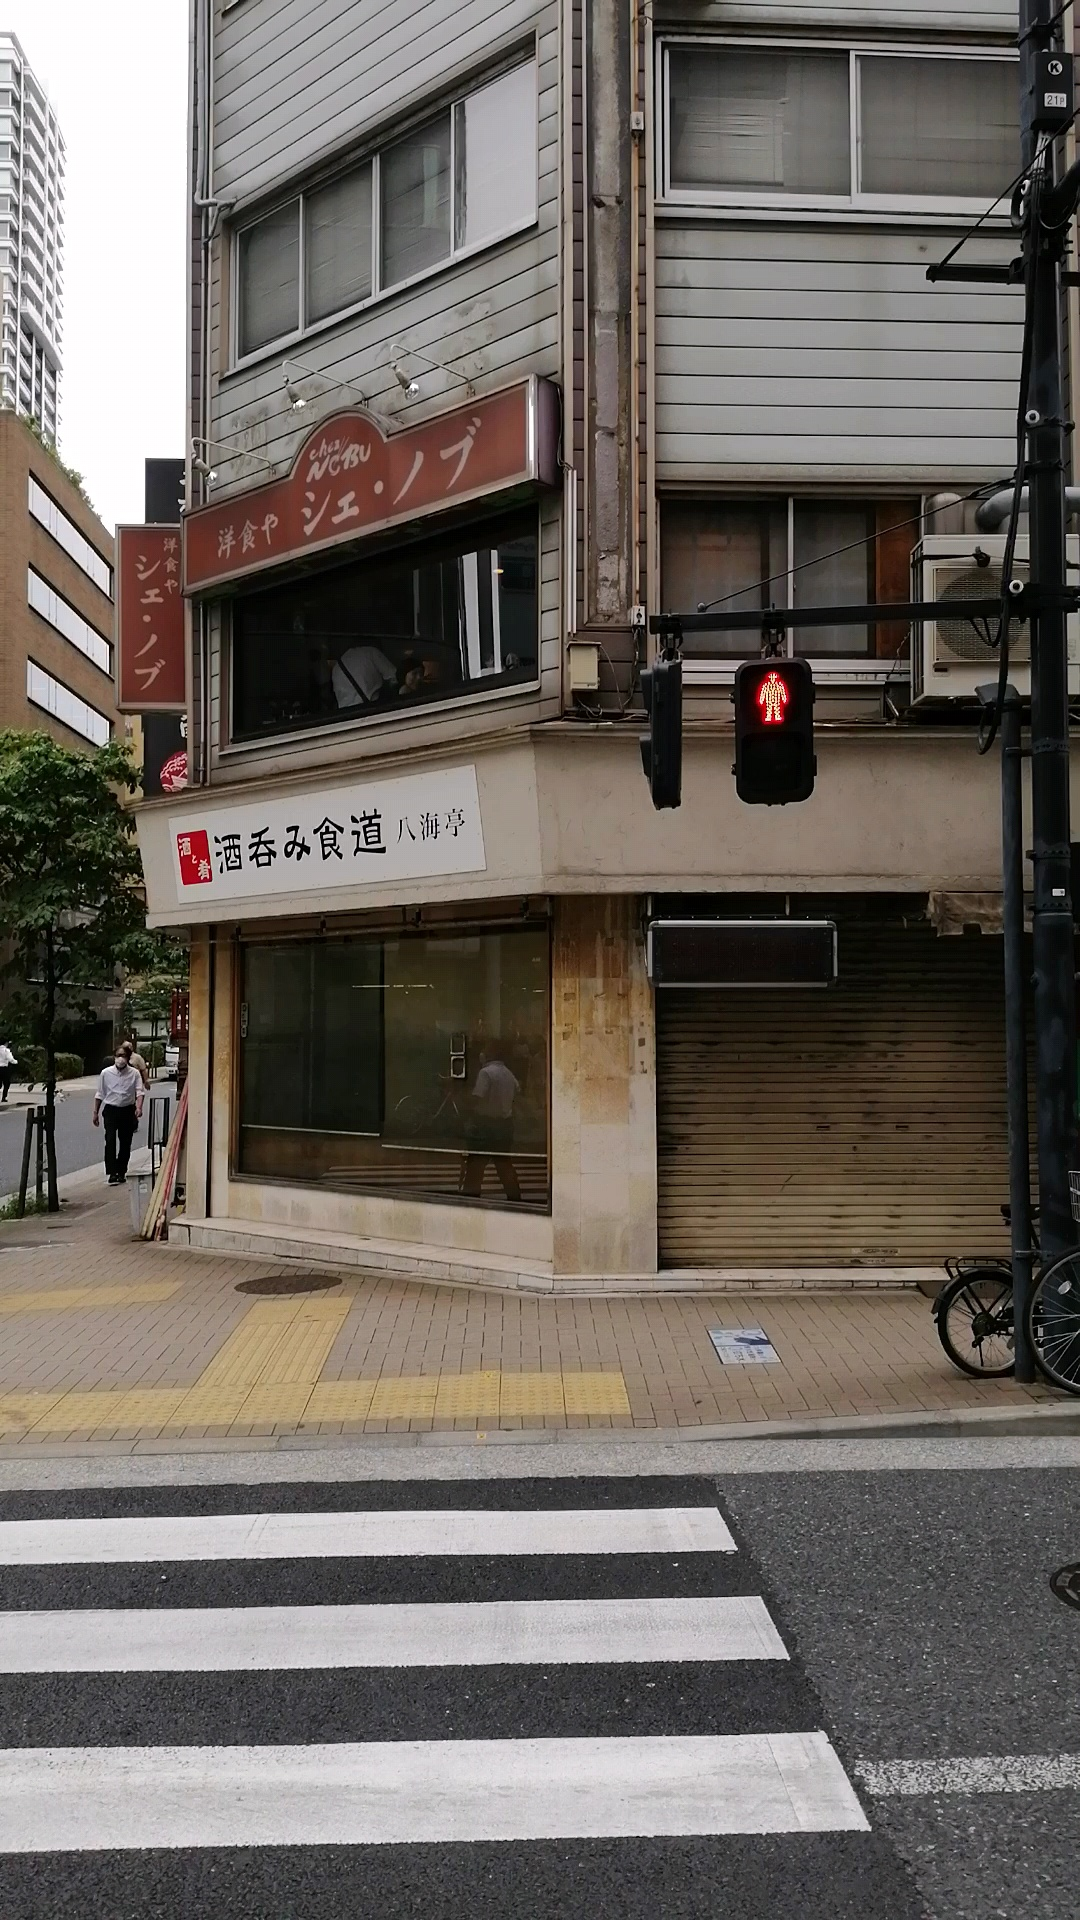red: (733, 658, 812, 800)
